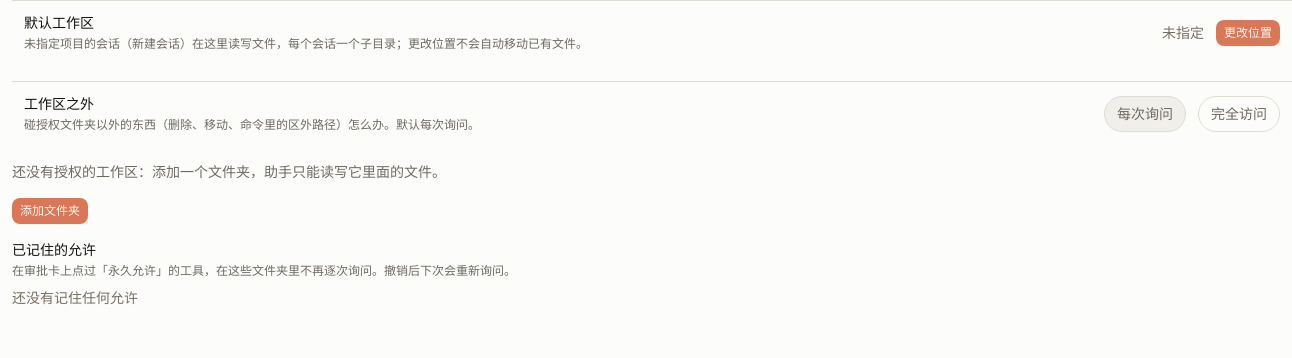
Scenario: 工作区组 · 通道缺失 › 没有 preload 桥时点「添加文件夹」：报"工作区通道不可用"，不静默
Step 1. Click the button with test id "workspace-add" → (50, 211), box [12,198,88,224]
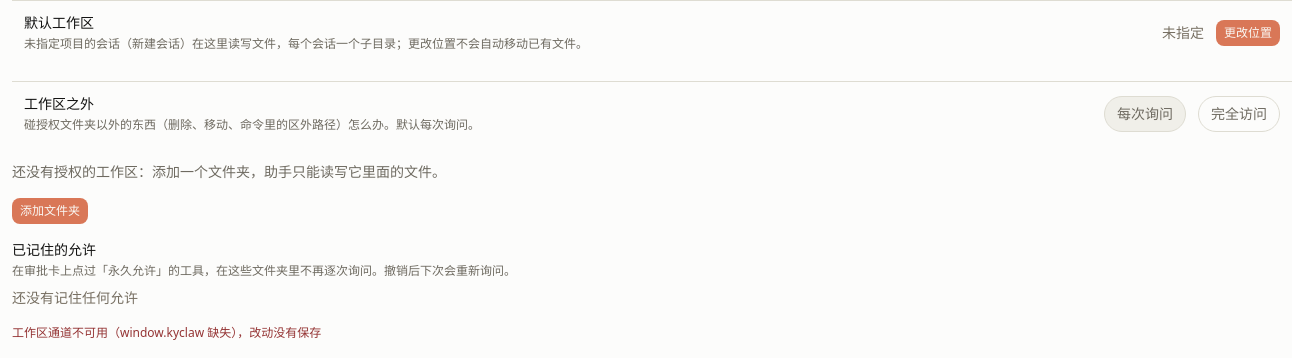
Now the text with test id "workspace-error" shows "工作区通道不可用", box [12,324,321,341]
